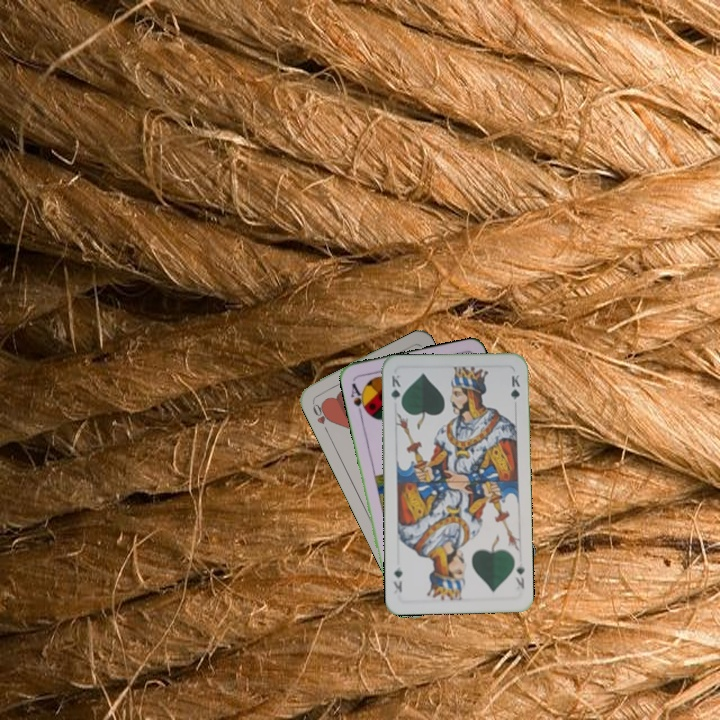GK: (387, 371, 404, 410), (511, 559, 527, 591)
HO: (308, 397, 334, 435)
SA: (346, 379, 370, 417)
